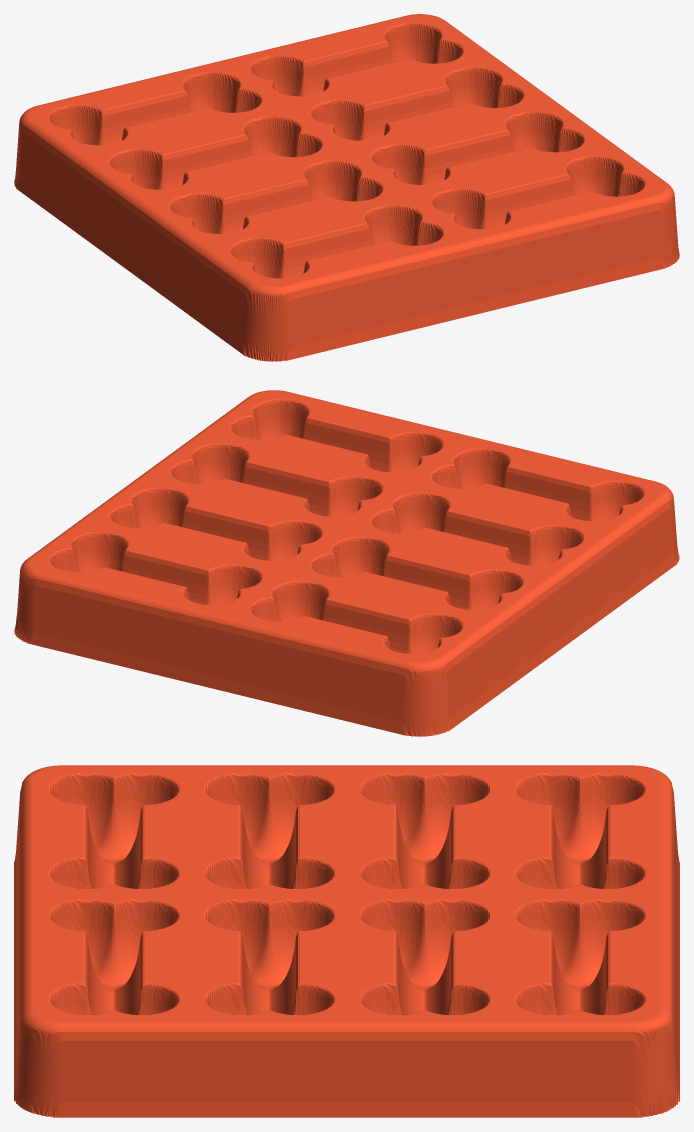
The model's file is mold.glb.
3 views of the same model, one above another, from view 1: azimuth 30°, elevation 25°; view 2: azimuth 150°, elevation 25°; view 3: azimuth 270°, elevation 25° (orthographic). The views are drawn at different scales.
Visible parts, largest first — view 1: geometry_0; view 2: geometry_0; view 3: geometry_0.
Boxes of the visible parts, x1,y1,x2,y2 form: geometry_0: (14,14,679,361); geometry_0: (14,390,679,736); geometry_0: (14,765,679,1117).
Bounding box in the file's own units: 0.1222 × 0.0185 × 0.1268.
